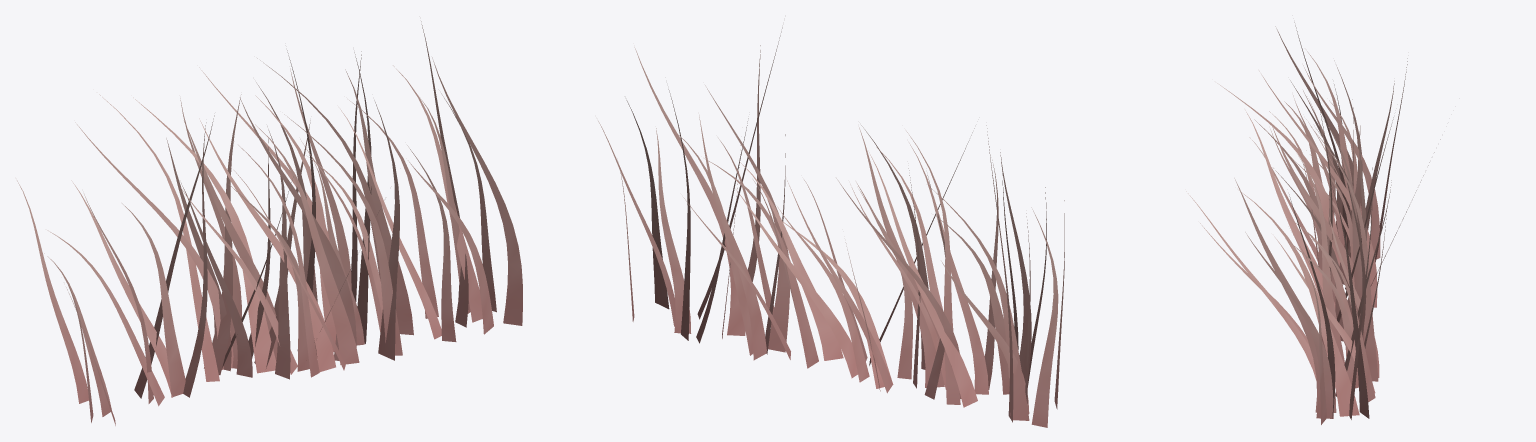
File: mesh-plant-010-deepwater-lance_LOD0.glb
3 renders of one model, left to right at view 1: azimuth 30°, elevation 25°; view 2: azimuth 150°, elevation 25°; view 3: azimuth 270°, elevation 25°, orthographic. The views are drawn at different scales.
Visible parts, largest first — view 1: geometry_0; view 2: geometry_0; view 3: geometry_0.
Part boxes in pixels (box(x1,y1,x2,y2)): geometry_0: box(17, 21, 522, 425); geometry_0: box(598, 27, 1064, 427); geometry_0: box(1186, 22, 1440, 424).
Bounding box in the file's own units: 2.24 × 1.09 × 1.45.
